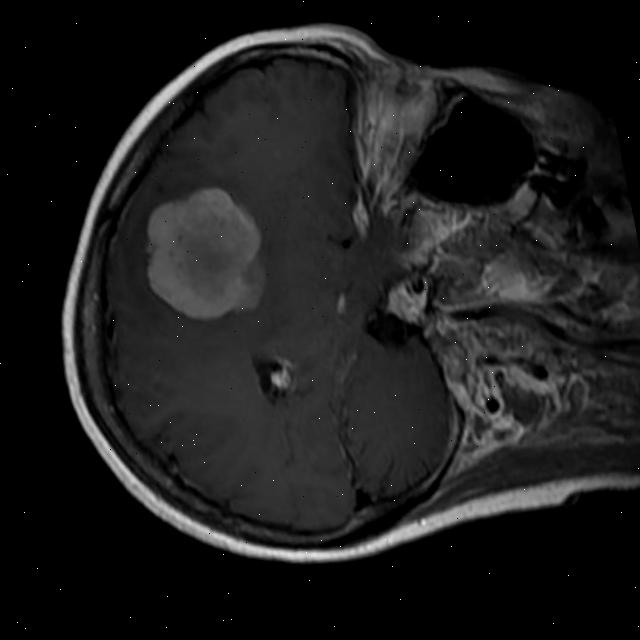Meningioma: (129, 176, 280, 330)
Pituitary: (378, 272, 437, 328)
